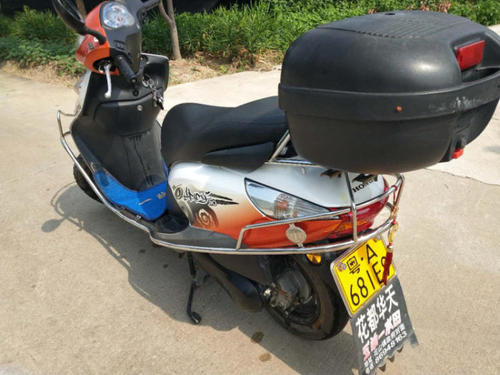motor: (43, 17, 498, 351)
